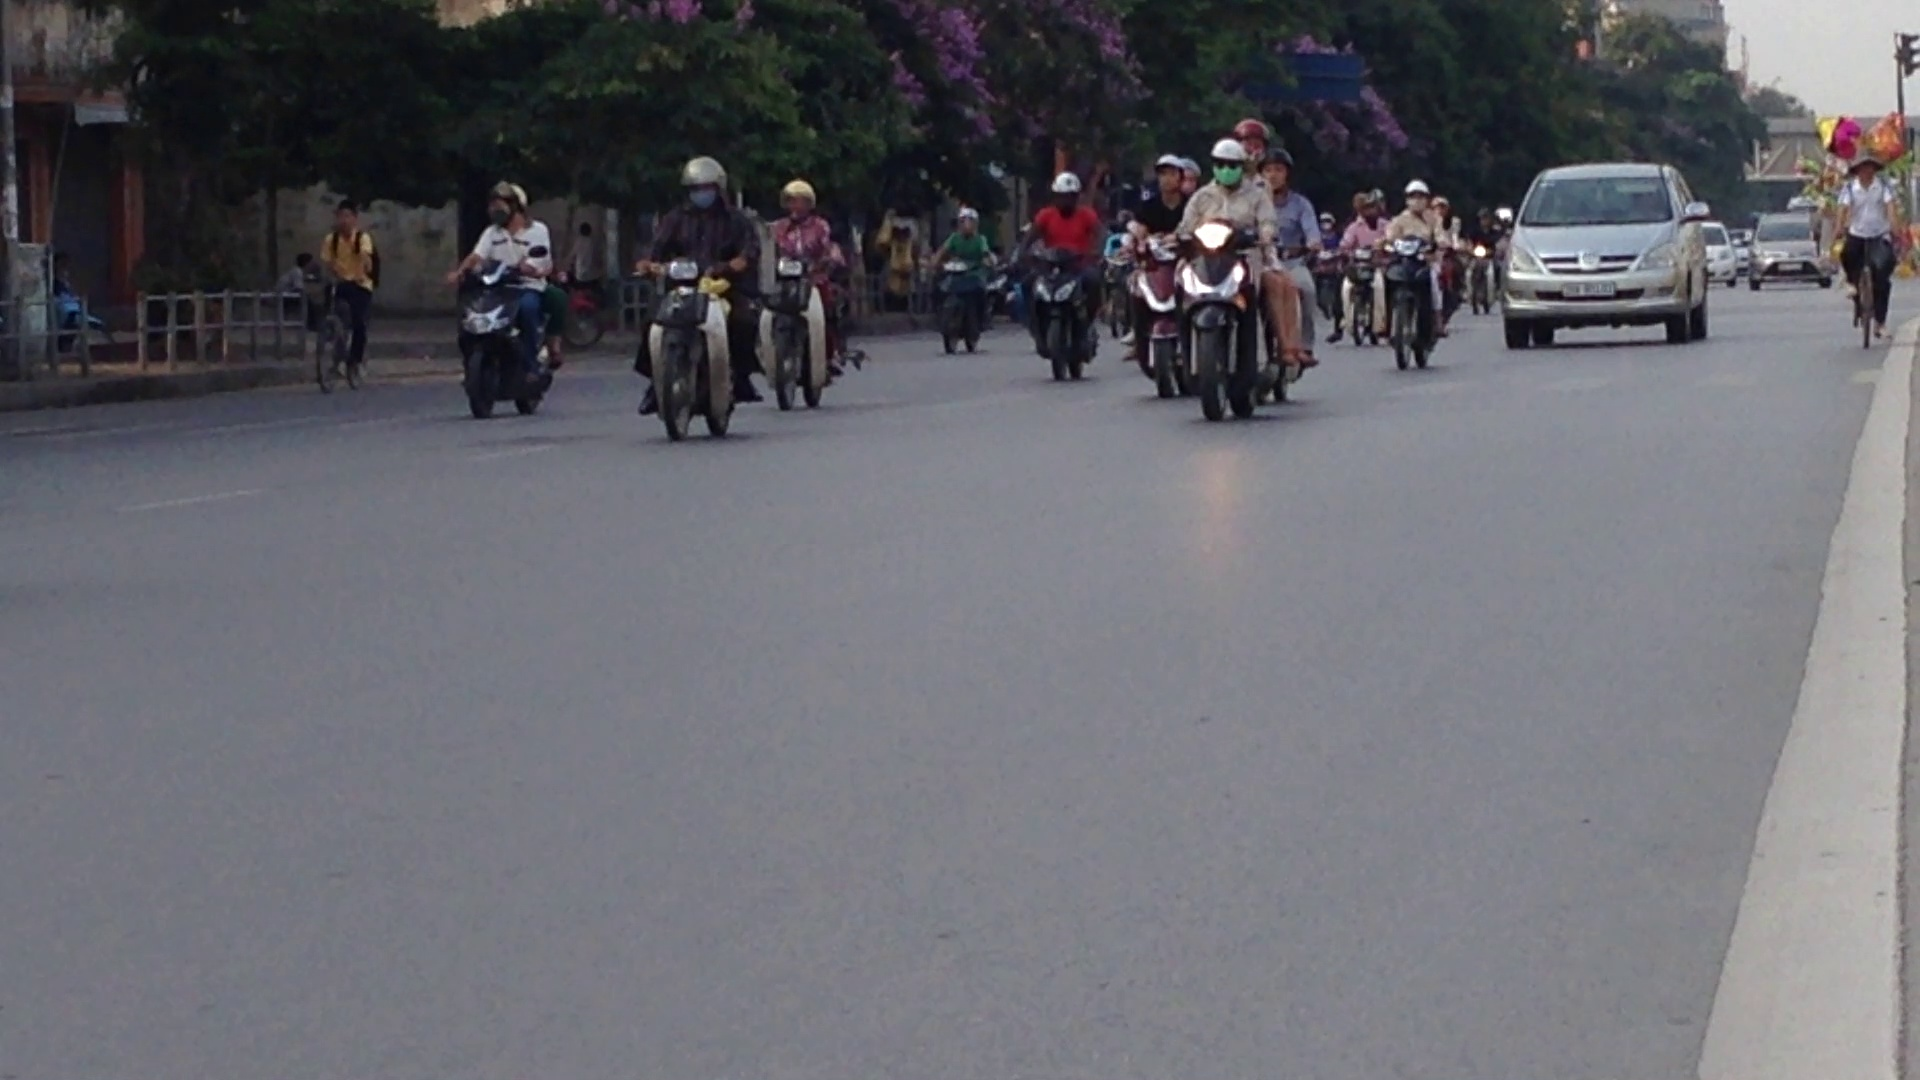person: (1558, 279, 1619, 301)
